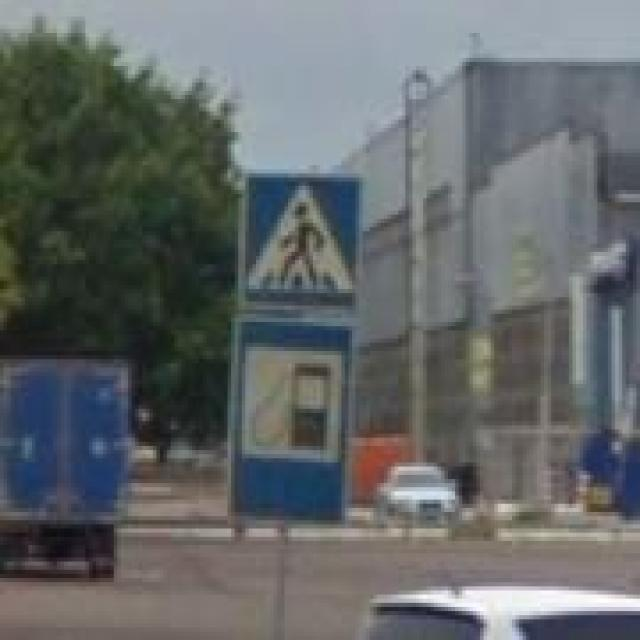crosswalk: (238, 169, 366, 314)
refueling: (224, 310, 359, 528)
